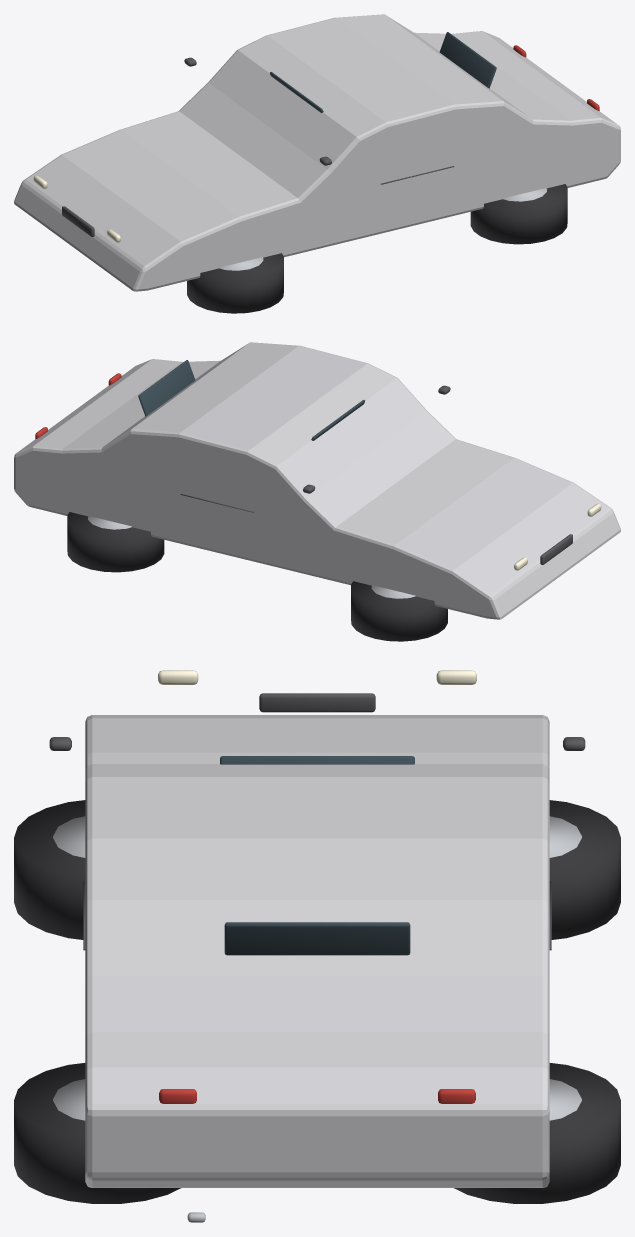
File: taxi.glb
The picture shows the model from 3 angles, top to bottom: view 1: azimuth 30°, elevation 25°; view 2: azimuth 150°, elevation 25°; view 3: azimuth 270°, elevation 25°; orthographic projection. The views are drawn at different scales.
Visible parts, largest first — view 1: body_main, wheel_rear_r, wheel_front_r, glass_rear; view 2: body_main, wheel_rear_l, wheel_front_l, glass_rear; view 3: body_main, wheel_rear_l, wheel_rear_r, wheel_front_l, wheel_front_r, glass_rear, trim_grille, glass_windshield, trim_rim__rear_l, trim_rim__rear_r, trim_rim__front_l, trim_rim__front_r.
Part boxes in pixels (bbox=[...]): body_main: bbox=[14, 14, 620, 291]; wheel_rear_r: bbox=[470, 184, 567, 244]; wheel_front_r: bbox=[187, 253, 283, 313]; glass_rear: bbox=[439, 32, 496, 88]; body_main: bbox=[14, 342, 620, 619]; wheel_rear_l: bbox=[67, 512, 164, 572]; wheel_front_l: bbox=[351, 581, 447, 641]; glass_rear: bbox=[138, 360, 195, 416]; body_main: bbox=[85, 715, 549, 1187]; wheel_rear_l: bbox=[454, 1063, 620, 1203]; wheel_rear_r: bbox=[14, 1063, 180, 1203]; wheel_front_l: bbox=[549, 800, 620, 939]; wheel_front_r: bbox=[14, 800, 85, 939]; glass_rear: bbox=[224, 922, 410, 955]; trim_grille: bbox=[259, 693, 375, 712]; glass_windshield: bbox=[220, 756, 414, 764]; trim_rim__rear_l: bbox=[549, 1079, 581, 1120]; trim_rim__rear_r: bbox=[53, 1079, 85, 1120]; trim_rim__front_l: bbox=[549, 816, 581, 857]; trim_rim__front_r: bbox=[53, 816, 85, 857].
Bounding box in the file's own units: 4.84 × 1.31 × 2.72.
